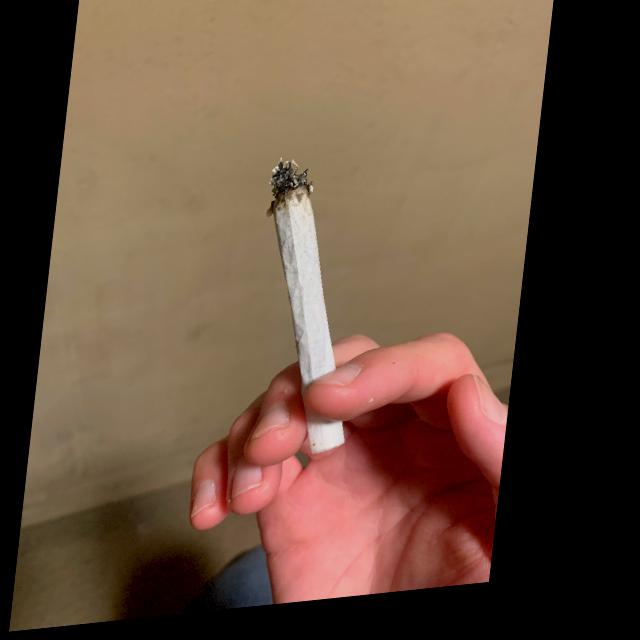cigarette: (247, 155, 383, 469)
